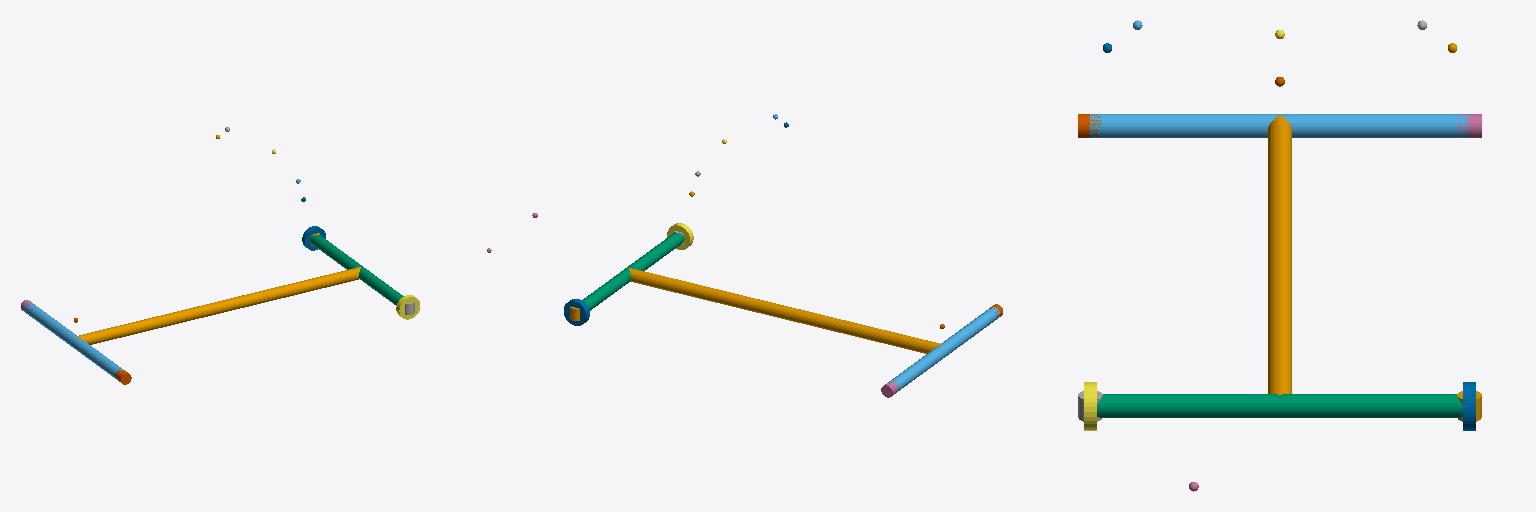
--- Facts derived from the render (not from the file) ---
3 views of the same robot in one strip: view 1: azimuth 30°, elevation 25°; view 2: azimuth 150°, elevation 25°; view 3: azimuth 270°, elevation 25° (orthographic).
Model nissanleaf with 21 links and 20 joints (2 revolute, 4 continuous, 14 fixed), rooted at base_link, posed every joint at zero.
Visible links, largest first — view 1: base_link, rear_axle_link, front_axle_link; view 2: base_link, rear_axle_link, front_axle_link; view 3: front_axle_link, rear_axle_link, base_link, front_left_wheel_link, front_right_wheel_link.
Link boxes in pixels (x1,y1,x2,y2): base_link: [76, 267, 360, 344]; rear_axle_link: [24, 302, 122, 378]; front_axle_link: [310, 235, 403, 305]; base_link: [629, 268, 941, 353]; rear_axle_link: [888, 307, 999, 393]; front_axle_link: [582, 233, 684, 310]; front_axle_link: [1097, 394, 1462, 417]; rear_axle_link: [1090, 114, 1469, 137]; base_link: [1268, 115, 1291, 394]; front_left_wheel_link: [1084, 382, 1096, 430]; front_right_wheel_link: [1463, 382, 1475, 430].
Size in the robot's own frame: 3.78 by 1.65 by 1.41 metres.
Meshes: 2 distinct files referenced, 0 mesh visuals loaded (none loaded); not drawn: 5 (reference not matched to a file when rendering).

The robot description file, URDF, robot "nissanleaf":
<?xml version="1.0" encoding="UTF-8" standalone="no"?>
<robot name="nissanleaf">
  <!--GEN START: Kinematic links-->
  <!--GEN LINK: base_link-->
  <link name="base_link">
    <visual>
      <origin rpy="1.5707963146269321 0.0 1.5707963146269321" xyz="1.350000023841858 0.0 0.0"/>
      <geometry>
        <cylinder length="2.7" radius="0.05"/>
      </geometry>
    </visual>
    <visual>
      <origin rpy="0.0 0.0 0.0" xyz="0.0 0.0 0.0"/>
      <geometry>
        <mesh filename="package://nissan_gazebo_sim/meshes/Nissan_Leaf_Simulation_02_06.obj" scale="1.0 1.0 1.0"/>
      </geometry>
    </visual>
    <collision>
      <origin rpy="1.5707963146269321 0.0 1.5707963146269321" xyz="1.350000023841858 0.0 0.0"/>
      <geometry>
        <cylinder length="2.7" radius="0.05"/>
      </geometry>
    </collision>
    <collision>
      <geometry>
        <mesh filename="package://nissan_gazebo_sim/meshes/nissan_leaf_convex_hull.obj" scale="1.0 1.0 1.0"/>
      </geometry>
      <origin rpy="0.0 0.0 0.0" xyz="0.0 0.0 0.0"/>
    </collision>
    <inertial>
      <origin rpy="0.0 0.0 0.0" xyz="1.215 0.0 0.75"/>
      <inertia ixx="581.5625" ixy="0.0" ixz="0.0" iyy="1192.5" iyz="0.0" izz="1211.5625"/>
      <mass value="1500.0"/>
    </inertial>
  </link>
  <!--GEN LINK: rear_axle_link-->
  <link name="rear_axle_link">
    <visual>
      <origin rpy="1.5707963146269321 0.0 0.0" xyz="0.0 0.0 0.0"/>
      <geometry>
        <cylinder length="1.55" radius="0.05"/>
      </geometry>
    </visual>
    <inertial>
      <mass value="10.0"/>
      <inertia ixx="2.0083333333333333" ixy="0.0" ixz="0.0" iyy="2.0083333333333333" iyz="0.0" izz="0.012500000000000002"/>
    </inertial>
    <collision>
      <origin rpy="1.5707963146269321 0.0 0.0" xyz="0.0 0.0 0.0"/>
      <geometry>
        <cylinder length="1.55" radius="0.05"/>
      </geometry>
    </collision>
  </link>
  <!--GEN LINK: front_axle_link-->
  <link name="front_axle_link">
    <visual>
      <origin rpy="1.5707963146269321 0.0 0.0" xyz="0.0 0.0 0.0"/>
      <geometry>
        <cylinder length="1.545" radius="0.05"/>
      </geometry>
    </visual>
    <inertial>
      <mass value="10.0"/>
      <inertia ixx="1.9954375" ixy="0.0" ixz="0.0" iyy="1.9954375" iyz="0.0" izz="0.012500000000000002"/>
    </inertial>
    <collision>
      <origin rpy="1.5707963146269321 0.0 0.0" xyz="0.0 0.0 0.0"/>
      <geometry>
        <cylinder length="1.545" radius="0.05"/>
      </geometry>
    </collision>
  </link>
  <!--GEN LINK: front_left_wheel_link-->
  <link name="front_left_wheel_link">
    <visual>
      <origin rpy="1.5707963146269321 0.0 0.0" xyz="0.0 0.0 0.0"/>
      <geometry>
        <cylinder length="0.05" radius="0.1"/>
      </geometry>
    </visual>
    <inertial>
      <mass value="2.0"/>
      <inertia ixx="0.005416666666666668" ixy="0.0" ixz="0.0" iyy="0.005416666666666668" iyz="0.0" izz="0.010000000000000002"/>
    </inertial>
    <collision>
      <origin rpy="1.5707963146269321 0.0 0.0" xyz="0.0 0.0 0.0"/>
      <geometry>
        <cylinder length="0.05" radius="0.1"/>
      </geometry>
    </collision>
  </link>
  <!--GEN LINK: front_right_wheel_link-->
  <link name="front_right_wheel_link">
    <visual>
      <origin rpy="1.5707963146269321 0.0 0.0" xyz="0.0 0.0 0.0"/>
      <geometry>
        <cylinder length="0.05" radius="0.1"/>
      </geometry>
    </visual>
    <inertial>
      <mass value="2.0"/>
      <inertia ixx="0.005416666666666668" ixy="0.0" ixz="0.0" iyy="0.005416666666666668" iyz="0.0" izz="0.010000000000000002"/>
    </inertial>
    <collision>
      <origin rpy="1.5707963146269321 0.0 0.0" xyz="0.0 0.0 0.0"/>
      <geometry>
        <cylinder length="0.05" radius="0.1"/>
      </geometry>
    </collision>
  </link>
  <!--GEN LINK: rear_left_wheel_link-->
  <link name="rear_left_wheel_link">
    <visual>
      <origin rpy="1.5707963146269321 0.0 0.0" xyz="0.0 0.0 0.0"/>
      <geometry>
        <cylinder length="0.1" radius="0.05"/>
      </geometry>
    </visual>
    <inertial>
      <mass value="2.0"/>
      <inertia ixx="0.002916666666666667" ixy="0.0" ixz="0.0" iyy="0.002916666666666667" iyz="0.0" izz="0.0025000000000000005"/>
    </inertial>
    <collision>
      <origin rpy="1.5707963146269321 0.0 0.0" xyz="0.0 0.0 0.0"/>
      <geometry>
        <cylinder length="0.1" radius="0.05"/>
      </geometry>
    </collision>
  </link>
  <!--GEN LINK: rear_right_wheel_link-->
  <link name="rear_right_wheel_link">
    <visual>
      <origin rpy="1.5707963146269321 0.0 0.0" xyz="0.0 0.0 0.0"/>
      <geometry>
        <cylinder length="0.1" radius="0.05"/>
      </geometry>
    </visual>
    <inertial>
      <mass value="2.0"/>
      <inertia ixx="0.002916666666666667" ixy="0.0" ixz="0.0" iyy="0.002916666666666667" iyz="0.0" izz="0.0025000000000000005"/>
    </inertial>
    <collision>
      <origin rpy="1.5707963146269321 0.0 0.0" xyz="0.0 0.0 0.0"/>
      <geometry>
        <cylinder length="0.1" radius="0.05"/>
      </geometry>
    </collision>
  </link>
  <!--GEN LINK: front_steer_left_wheel_link-->
  <link name="front_steer_left_wheel_link">
    <visual>
      <origin xyz="0.0 0.0 0.0"/>
      <geometry>
        <cylinder length="0.1" radius="0.05"/>
      </geometry>
    </visual>
    <inertial>
      <mass value="2.0"/>
      <inertia ixx="0.002916666666666667" ixy="0.0" ixz="0.0" iyy="0.002916666666666667" iyz="0.0" izz="0.0025000000000000005"/>
    </inertial>
    <collision>
      <origin xyz="0.0 0.0 0.0"/>
      <geometry>
        <cylinder length="0.1" radius="0.05"/>
      </geometry>
    </collision>
  </link>
  <!--GEN LINK: front_steer_right_wheel_link-->
  <link name="front_steer_right_wheel_link">
    <visual>
      <origin xyz="0.0 0.0 0.0"/>
      <geometry>
        <cylinder length="0.1" radius="0.05"/>
      </geometry>
    </visual>
    <inertial>
      <mass value="2.0"/>
      <inertia ixx="0.002916666666666667" ixy="0.0" ixz="0.0" iyy="0.002916666666666667" iyz="0.0" izz="0.0025000000000000005"/>
    </inertial>
    <collision>
      <origin xyz="0.0 0.0 0.0"/>
      <geometry>
        <cylinder length="0.1" radius="0.05"/>
      </geometry>
    </collision>
  </link>
  <!--GEN LINK: front_left_wheel_link_drive-->
  <link name="front_left_wheel_link_drive">
    <visual>
      <origin rpy="0.0 0.0 -0.0" xyz="0.0 0.0 0.0"/>
      <geometry>
        <mesh filename="package://nissan_gazebo_sim/meshes/Nissan_Leaf_Wheel_Assembly_Right.obj" scale="1.0 1.0 1.0"/>
      </geometry>
    </visual>
    <collision>
      <geometry>
        <mesh filename="package://nissan_gazebo_sim/meshes/nissan__leaf_wheel_collision_qhull.obj" scale="1.0 1.0 1.0"/>
      </geometry>
      <origin rpy="0.0 0.0 -0.0" xyz="0.0 0.0 0.0"/>
    </collision>
    <inertial>
      <origin rpy="0.0 0.0 0.0" xyz="0.0 0.0 0.0"/>
      <inertia ixx="0.419915" ixy="0.0" ixz="0.0" iyy="0.419915" iyz="0.0" izz="0.7347675"/>
      <mass value="15.0"/>
    </inertial>
  </link>
  <!--GEN LINK: front_right_wheel_link_drive-->
  <link name="front_right_wheel_link_drive">
    <visual>
      <origin rpy="0.0 0.0 0.0" xyz="0.0 0.0 0.0"/>
      <geometry>
        <mesh filename="package://nissan_gazebo_sim/meshes/Nissan_Leaf_Wheel_Assembly_Right.obj" scale="1.0 1.0 1.0"/>
      </geometry>
    </visual>
    <collision>
      <geometry>
        <mesh filename="package://nissan_gazebo_sim/meshes/nissan__leaf_wheel_collision_qhull.obj" scale="1.0 1.0 1.0"/>
      </geometry>
      <origin rpy="0.0 0.0 0.0" xyz="0.0 0.0 0.0"/>
    </collision>
    <inertial>
      <origin rpy="0.0 0.0 0.0" xyz="0.0 0.0 0.0"/>
      <inertia ixx="0.419915" ixy="0.0" ixz="0.0" iyy="0.419915" iyz="0.0" izz="0.7347675"/>
      <mass value="15.0"/>
    </inertial>
  </link>
  <!--GEN LINK: rear_left_wheel_link_drive-->
  <link name="rear_left_wheel_link_drive">
    <visual>
      <origin rpy="0.0 0.0 -0.0" xyz="0.0 0.0 0.0"/>
      <geometry>
        <mesh filename="package://nissan_gazebo_sim/meshes/Nissan_Leaf_Wheel_Assembly_Right.obj" scale="1.0 1.0 1.0"/>
      </geometry>
    </visual>
    <collision>
      <geometry>
        <mesh filename="package://nissan_gazebo_sim/meshes/nissan__leaf_wheel_collision_qhull.obj" scale="1.0 1.0 1.0"/>
      </geometry>
      <origin rpy="0.0 0.0 -0.0" xyz="0.0 0.0 0.0"/>
    </collision>
    <inertial>
      <origin rpy="0.0 0.0 0.0" xyz="0.0 0.0 0.0"/>
      <inertia ixx="0.419915" ixy="0.0" ixz="0.0" iyy="0.419915" iyz="0.0" izz="0.7347675"/>
      <mass value="15.0"/>
    </inertial>
  </link>
  <!--GEN LINK: rear_right_wheel_link_drive-->
  <link name="rear_right_wheel_link_drive">
    <visual>
      <origin rpy="0.0 0.0 0.0" xyz="0.0 0.0 0.0"/>
      <geometry>
        <mesh filename="package://nissan_gazebo_sim/meshes/Nissan_Leaf_Wheel_Assembly_Right.obj" scale="1.0 1.0 1.0"/>
      </geometry>
    </visual>
    <collision>
      <geometry>
        <mesh filename="package://nissan_gazebo_sim/meshes/nissan__leaf_wheel_collision_qhull.obj" scale="1.0 1.0 1.0"/>
      </geometry>
      <origin rpy="0.0 0.0 0.0" xyz="0.0 0.0 0.0"/>
    </collision>
    <inertial>
      <origin rpy="0.0 0.0 0.0" xyz="0.0 0.0 0.0"/>
      <inertia ixx="0.419915" ixy="0.0" ixz="0.0" iyy="0.419915" iyz="0.0" izz="0.7347675"/>
      <mass value="15.0"/>
    </inertial>
  </link>
  <!--GEN LINK: duro-->
  <link name="duro">
    <visual>
      <origin xyz="0.0 0.0 0.0"/>
      <geometry>
        <sphere radius="0.02"/>
      </geometry>
    </visual>
    <inertial>
      <mass value="1.0"/>
      <inertia ixx="0.007999999940395353" ixy="0.0" ixz="0.0" iyy="0.007999999940395353" iyz="0.0" izz="0.007999999940395353"/>
    </inertial>
    <collision>
      <origin xyz="0.0 0.0 0.0"/>
      <geometry>
        <sphere radius="0.02"/>
      </geometry>
    </collision>
  </link>
  <!--GEN LINK: laser-->
  <link name="laser">
    <visual>
      <origin xyz="0.0 0.0 0.0"/>
      <geometry>
        <sphere radius="0.02"/>
      </geometry>
    </visual>
    <inertial>
      <mass value="0.0"/>
      <inertia ixx="0.0" ixy="0.0" ixz="0.0" iyy="0.0" iyz="0.0" izz="0.0"/>
    </inertial>
    <collision>
      <origin xyz="0.0 0.0 0.0"/>
      <geometry>
        <sphere radius="0.02"/>
      </geometry>
    </collision>
    <inertial>
      <mass value="0.0"/>
      <inertia ixx="0.0" ixy="0.0" ixz="0.0" iyy="0.0" iyz="0.0" izz="0.0"/>
    </inertial>
  </link>
  <!--GEN LINK: ouster_left-->
  <link name="ouster_left">
    <visual>
      <origin xyz="0.0 0.0 0.0"/>
      <geometry>
        <sphere radius="0.02"/>
      </geometry>
    </visual>
    <inertial>
      <mass value="1.0"/>
      <inertia ixx="0.007999999940395353" ixy="0.0" ixz="0.0" iyy="0.007999999940395353" iyz="0.0" izz="0.007999999940395353"/>
    </inertial>
    <collision>
      <origin xyz="0.0 0.0 0.0"/>
      <geometry>
        <sphere radius="0.02"/>
      </geometry>
    </collision>
  </link>
  <!--GEN LINK: velodyne_left-->
  <link name="velodyne_left">
    <visual>
      <origin xyz="0.0 0.0 0.0"/>
      <geometry>
        <sphere radius="0.02"/>
      </geometry>
    </visual>
    <inertial>
      <mass value="1.0"/>
      <inertia ixx="0.007999999940395353" ixy="0.0" ixz="0.0" iyy="0.007999999940395353" iyz="0.0" izz="0.007999999940395353"/>
    </inertial>
    <collision>
      <origin xyz="0.0 0.0 0.0"/>
      <geometry>
        <sphere radius="0.02"/>
      </geometry>
    </collision>
  </link>
  <!--GEN LINK: ouster_right-->
  <link name="ouster_right">
    <visual>
      <origin xyz="0.0 0.0 0.0"/>
      <geometry>
        <sphere radius="0.02"/>
      </geometry>
    </visual>
    <inertial>
      <mass value="1.0"/>
      <inertia ixx="0.007999999940395353" ixy="0.0" ixz="0.0" iyy="0.007999999940395353" iyz="0.0" izz="0.007999999940395353"/>
    </inertial>
    <collision>
      <origin xyz="0.0 0.0 0.0"/>
      <geometry>
        <sphere radius="0.02"/>
      </geometry>
    </collision>
  </link>
  <!--GEN LINK: duro_imu-->
  <link name="duro_imu">
    <visual>
      <origin xyz="0.0 0.0 0.0"/>
      <geometry>
        <sphere radius="0.02"/>
      </geometry>
    </visual>
    <inertial>
      <mass value="0.5"/>
      <inertia ixx="0.003999999970197676" ixy="0.0" ixz="0.0" iyy="0.003999999970197676" iyz="0.0" izz="0.003999999970197676"/>
    </inertial>
    <collision>
      <origin xyz="0.0 0.0 0.0"/>
      <geometry>
        <sphere radius="0.02"/>
      </geometry>
    </collision>
  </link>
  <!--GEN LINK: stereo_camera-->
  <link name="stereo_camera">
    <visual>
      <origin xyz="0.0 0.0 0.0"/>
      <geometry>
        <sphere radius="0.02"/>
      </geometry>
    </visual>
    <inertial>
      <mass value="1.0"/>
      <inertia ixx="0.007999999940395353" ixy="0.0" ixz="0.0" iyy="0.007999999940395353" iyz="0.0" izz="0.007999999940395353"/>
    </inertial>
    <collision>
      <origin xyz="0.0 0.0 0.0"/>
      <geometry>
        <sphere radius="0.02"/>
      </geometry>
    </collision>
  </link>
  <!--GEN LINK: velodyne_right-->
  <link name="velodyne_right">
    <visual>
      <origin xyz="0.0 0.0 0.0"/>
      <geometry>
        <sphere radius="0.02"/>
      </geometry>
    </visual>
    <inertial>
      <mass value="1.0"/>
      <inertia ixx="0.007999999940395353" ixy="0.0" ixz="0.0" iyy="0.007999999940395353" iyz="0.0" izz="0.007999999940395353"/>
    </inertial>
    <collision>
      <origin xyz="0.0 0.0 0.0"/>
      <geometry>
        <sphere radius="0.02"/>
      </geometry>
    </collision>
  </link>
  <!--GEN START: Kinematic joints-->
  <joint name="axle_front" type="fixed">
    <parent link="base_link"/>
    <child link="front_axle_link"/>
    <axis xyz="1.0 0.0 0.0"/>
    <origin xyz="2.700000047683716 0.0 0.0"/>
  </joint>
  <joint name="axle_rear" type="fixed">
    <parent link="base_link"/>
    <child link="rear_axle_link"/>
    <axis xyz="1.0 0.0 0.0"/>
    <origin xyz="-0.0 0.0 0.0"/>
  </joint>
  <joint name="axle_front_left" type="fixed">
    <parent link="front_axle_link"/>
    <child link="front_steer_left_wheel_link"/>
    <axis xyz="0.0 1.0 0.0"/>
    <origin xyz="0.0 -0.7724999785423279 0.0"/>
  </joint>
  <joint name="axle_front_right" type="fixed">
    <parent link="front_axle_link"/>
    <child link="front_steer_right_wheel_link"/>
    <axis xyz="0.0 1.0 0.0"/>
    <origin xyz="0.0 0.7724999785423279 0.0"/>
  </joint>
  <joint name="axle_rear_left" type="fixed">
    <parent link="rear_axle_link"/>
    <child link="rear_left_wheel_link"/>
    <axis xyz="0.0 1.0 0.0"/>
    <origin xyz="0.0 -0.7749999761581421 0.0"/>
  </joint>
  <joint name="axle_rear_right" type="fixed">
    <parent link="rear_axle_link"/>
    <child link="rear_right_wheel_link"/>
    <axis xyz="0.0 1.0 0.0"/>
    <origin xyz="0.0 0.7749999761581421 0.0"/>
  </joint>
  <joint name="jnt_front_left_steer" type="revolute">
    <parent link="front_steer_left_wheel_link"/>
    <child link="front_left_wheel_link"/>
    <axis xyz="0.0 0.0 1.0"/>
    <limit effort="8000.0" lower="-0.4886921905584123" upper="0.5585053606381855" velocity="0.4"/>
  </joint>
  <joint name="jnt_front_right_steer" type="revolute">
    <parent link="front_steer_right_wheel_link"/>
    <child link="front_right_wheel_link"/>
    <axis xyz="0.0 0.0 1.0"/>
    <limit effort="8000.0" lower="-0.4886921905584123" upper="0.5585053606381855" velocity="0.4"/>
  </joint>
  <joint name="joint_wheel_front_left" type="continuous">
    <parent link="front_left_wheel_link"/>
    <child link="front_left_wheel_link_drive"/>
    <axis xyz="0.0 1.0 0.0"/>
  </joint>
  <joint name="joint_wheel_front_right" type="continuous">
    <parent link="front_right_wheel_link"/>
    <child link="front_right_wheel_link_drive"/>
    <axis xyz="0.0 1.0 0.0"/>
  </joint>
  <joint name="joint_wheel_rear_left" type="continuous">
    <parent link="rear_left_wheel_link"/>
    <child link="rear_left_wheel_link_drive"/>
    <axis xyz="0.0 1.0 0.0"/>
  </joint>
  <joint name="joint_wheel_rear_right" type="continuous">
    <parent link="rear_right_wheel_link"/>
    <child link="rear_right_wheel_link_drive"/>
    <axis xyz="0.0 1.0 0.0"/>
  </joint>
  <joint name="jnt_duro" type="fixed">
    <parent link="base_link"/>
    <child link="duro"/>
    <axis xyz="0.0 0.0 1.0"/>
    <origin xyz="0.0 0.0 0.2"/>
  </joint>
  <joint name="jnt_laser" type="fixed">
    <parent link="base_link"/>
    <child link="laser"/>
    <axis xyz="0.0 0.0 1.0"/>
    <origin xyz="3.707 -0.351 0.108"/>
  </joint>
  <joint name="jnt_ouster_left" type="fixed">
    <parent link="base_link"/>
    <child link="ouster_left"/>
    <axis xyz="0.0 0.0 1.0"/>
    <origin xyz="1.769 0.58 1.278"/>
  </joint>
  <joint name="jnt_velodyne_left" type="fixed">
    <parent link="base_link"/>
    <child link="velodyne_left"/>
    <axis xyz="0.0 0.0 1.0"/>
    <origin xyz="1.749 0.703 1.166"/>
  </joint>
  <joint name="jnt_ouster_right" type="fixed">
    <parent link="base_link"/>
    <child link="ouster_right"/>
    <axis xyz="0.0 0.0 1.0"/>
    <origin xyz="1.769 -0.58 1.278"/>
  </joint>
  <joint name="jnt_duro_imu" type="fixed">
    <parent link="base_link"/>
    <child link="duro_imu"/>
    <axis xyz="0.0 0.0 1.0"/>
    <origin xyz="0.0 0.0 0.2"/>
  </joint>
  <joint name="jnt_stereo_camera" type="fixed">
    <parent link="base_link"/>
    <child link="stereo_camera"/>
    <axis xyz="0.0 0.0 1.0"/>
    <origin xyz="1.874 0.0 1.286"/>
  </joint>
  <joint name="jnt_velodyne_right" type="fixed">
    <parent link="base_link"/>
    <child link="velodyne_right"/>
    <axis xyz="0.0 0.0 1.0"/>
    <origin xyz="1.749 -0.703 1.166"/>
  </joint>
  <!--GEN START: Transmission definitions-->
  <!--GEN START: Sensor definitions-->
  <gazebo>
    <plugin filename="libhector_gazebo_ros_gps.so" name="duro">
      <updateRate>40</updateRate>
      <bodyName>duro</bodyName>
      <frameId>duro</frameId>
      <topicName>/gps/fix</topicName>
      <velocityTopicName>/gps/fix_velocity</velocityTopicName>
      <referenceLatitude>46.8944633103</referenceLatitude>
      <referenceLongitude>16.8349298959</referenceLongitude>
      <referenceAltitude>245.946914672852</referenceAltitude>
      <referenceHeading>90.0</referenceHeading>
    </plugin>
  </gazebo>
  <gazebo reference="laser">
    <sensor name="laser" type="ray">
      <update_rate>40</update_rate>
      <ray>
        <scan>
          <horizontal>
            <samples>300</samples>
            <resolution>0</resolution>
            <min_angle>-2.3561945</min_angle>
            <max_angle>2.3561945</max_angle>
          </horizontal>
        </scan>
        <range>
          <min>0.1</min>
          <max>30.0</max>
          <resolution>0.01</resolution>
        </range>
      </ray>
      <plugin filename="libgazebo_ros_laser.so" name="laser_laser">
        <topicName>/laser/scan</topicName>
        <frameName>laser</frameName>
      </plugin>
    </sensor>
  </gazebo>
  <gazebo reference="ouster_left">
    <sensor name="ouster_left" type="gpu_ray">
      <update_rate>10</update_rate>
      <ray>
        <scan>
          <horizontal>
            <samples>512</samples>
            <resolution>1.0</resolution>
            <min_angle>-3.141592653589793</min_angle>
            <max_angle>3.141592653589793</max_angle>
          </horizontal>
          <vertical>
            <samples>32</samples>
            <resolution>1</resolution>            
            <min_angle>-0.2617993877991494</min_angle>
            <max_angle>0.2617993877991494</max_angle>
          </vertical>
        </scan>
        <range>
          <min>0.4</min>
          <max>130.0</max>
          <resolution>0.03</resolution>
        </range>
      </ray>
      <plugin filename="libgazebo_ros_velodyne_gpu_laser.so" name="velodyne_ouster_left">
        <topicName>/ouster_left</topicName>
        <frameName>left_os1/os1_sensor</frameName>
        <min_range>0.4</min_range>
        <max_range>132.0</max_range>
        <gaussianNoise>0.008</gaussianNoise>
      </plugin>
    </sensor>
  </gazebo>
  <!--
  <gazebo reference="velodyne_left">
    <sensor name="velodyne_left" type="gpu_ray">
      <update_rate>10</update_rate>
      <ray>
        <scan>
          <horizontal>
            <samples>2187</samples>
            <resolution>1.0</resolution>
            <min_angle>-3.141592653589793</min_angle>
            <max_angle>3.141592653589793</max_angle>
          </horizontal>
          <vertical>
            <samples>16</samples>
            <resolution>1.0</resolution>
            <min_angle>-0.2617993877991494</min_angle>
            <max_angle>0.2617993877991494</max_angle>
          </vertical>
        </scan>
        <range>
          <min>0.4</min>
          <max>130.0</max>
          <resolution>0.01</resolution>
        </range>
      </ray>
      <plugin filename="libgazebo_ros_velodyne_gpu_laser.so" name="velodyne_velodyne_left">
        <topicName>/velodyne_left</topicName>
        <frameName>velodyne_left</frameName>
        <min_range>0.4</min_range>
        <max_range>130.0</max_range>
        <gaussianNoise>0.008</gaussianNoise>
      </plugin>
    </sensor>
  </gazebo>
  -->
  <gazebo reference="ouster_right">
    <sensor name="ouster_right" type="gpu_ray">
      <update_rate>10</update_rate>
      <ray>
        <scan>
          <horizontal>
            <samples>2187</samples>
            <resolution>1.0</resolution>
            <min_angle>-3.141592653589793</min_angle>
            <max_angle>3.141592653589793</max_angle>
          </horizontal>
          <vertical>
            <samples>32</samples>
            <resolution>1</resolution>
            <!--
            <min_angle>-0.2617993877991494</min_angle>
            <max_angle>0.2617993877991494</max_angle>
            -->
            <min_angle>-0.417993877991494</min_angle>
            <max_angle>0.1017993877991494</max_angle>
          </vertical>
        </scan>
        <range>
          <min>0.4</min>
          <max>130.0</max>
          <resolution>0.01</resolution>
        </range>
      </ray>
      <plugin filename="libgazebo_ros_velodyne_gpu_laser.so" name="velodyne_ouster_right">
        <topicName>/ouster_right</topicName>
        <frameName>right_os1/os1_sensor</frameName>
        <min_range>0.4</min_range>
        <max_range>130.0</max_range>
        <gaussianNoise>0.008</gaussianNoise>
      </plugin>
    </sensor>
  </gazebo>
  <gazebo reference="duro_imu">
    <sensor name="duro_imu" type="imu">
      <update_rate>100</update_rate>
      <plugin filename="libgazebo_ros_imu_sensor.so" name="imu_duro_imu_plugin">
        <topicName>/imu</topicName>
        <bodyName>duro_imu</bodyName>
        <updateRateHZ>100</updateRateHZ>
        <frameName>duro_imu</frameName>
      </plugin>
    </sensor>
  </gazebo>
  <gazebo reference="stereo_camera">
    <sensor name="stereo_camera" type="multicamera">
      <update_rate>30</update_rate>
      <camera name="stereo_camera_right">
        <pose>-0.07 0 0 0 0 0</pose>
        <horizontal_fov>1.413716694115407</horizontal_fov>
        <image>
          <width>1920</width>
          <height>1080</height>
          <format>R8G8B8</format>
        </image>
        <clip>
          <near>0.1</near>
          <far>300.0</far>
        </clip>
      </camera>
      <camera name="stereo_camera_left">
        <pose>0.07 0 0 0 0 0</pose>
        <horizontal_fov>1.413716694115407</horizontal_fov>
        <image>
          <width>1920</width>
          <height>1080</height>
          <format>R8G8B8</format>
        </image>
        <clip>
          <near>0.1</near>
          <far>300.0</far>
        </clip>
      </camera>
      <plugin filename="libgazebo_ros_multicamera.so" name="camera_stereo_camera_plugin">
        <cameraName>stereo_camera</cameraName>
        <imageTopicName>image_raw</imageTopicName>
        <frameName>stereo_camera</frameName>
      </plugin>
    </sensor>
  </gazebo>
  <!--
  <gazebo reference="velodyne_right">
    <sensor name="velodyne_right" type="gpu_ray">
      <update_rate>10</update_rate>
      <ray>
        <scan>
          <horizontal>
            <samples>2187</samples>
            <resolution>1.0</resolution>
            <min_angle>-3.141592653589793</min_angle>
            <max_angle>3.141592653589793</max_angle>
          </horizontal>
          <vertical>
            <samples>16</samples>
            <resolution>1.0</resolution>
            <min_angle>-0.2617993877991494</min_angle>
            <max_angle>0.2617993877991494</max_angle>
          </vertical>
        </scan>
        <range>
          <min>0.4</min>
          <max>130.0</max>
          <resolution>0.01</resolution>
        </range>
      </ray>
      <plugin filename="libgazebo_ros_velodyne_gpu_laser.so" name="velodyne_velodyne_right">
        <topicName>/velodyne_right</topicName>
        <frameName>velodyne_right</frameName>
        <min_range>0.4</min_range>
        <max_range>130.0</max_range>
        <gaussianNoise>0.008</gaussianNoise>
      </plugin>
    </sensor>
  </gazebo>
  -->
  <!--GEN START: Control plugins-->
  <gazebo>
    <plugin filename="libgazebo_nissan_leaf.so" name="gazebo_nissan_leaf">
        <!--
	    <start_steer_p_gain>30000.0</start_steer_p_gain>
	    <start_steer_i_gain>1.0</start_steer_i_gain>
	    <start_steer_d_gain>1000.0</start_steer_d_gain>
	    -->
	    <start_steer_p_gain>10000.0</start_steer_p_gain>
	    <start_steer_i_gain>1.0</start_steer_i_gain>
	    <start_steer_d_gain>50.0</start_steer_d_gain>
	    <start_velocity_p_gain>1000.0</start_velocity_p_gain>
	    <start_velocity_i_gain>0.01</start_velocity_i_gain>
	    <start_velocity_d_gain>10.0</start_velocity_d_gain>
	    <steer_control_tune>1</steer_control_tune>	    
	    <velocity_control_tune>1</velocity_control_tune>
    </plugin>
  </gazebo>
  
  <gazebo reference="front_left_wheel_link_drive">
    <mu1>0.7</mu1>
    <mu2>0.7</mu2>
    <minDepth>0.005</minDepth>
    <kp>1.0E8</kp>
  </gazebo>
  <gazebo reference="front_right_wheel_link_drive">
    <mu1>0.7</mu1>
    <mu2>0.7</mu2>
    <minDepth>0.005</minDepth>
    <kp>1.0E8</kp>
  </gazebo>
  <gazebo reference="rear_left_wheel_link_drive">
    <mu1>0.7</mu1>
    <mu2>0.7</mu2>
    <minDepth>0.005</minDepth>
    <kp>1.0E8</kp>
  </gazebo>
  <gazebo reference="rear_right_wheel_link_drive">
    <mu1>0.7</mu1>
    <mu2>0.7</mu2>
    <minDepth>0.005</minDepth>
    <kp>1.0E8</kp>
  </gazebo>
  
</robot>
